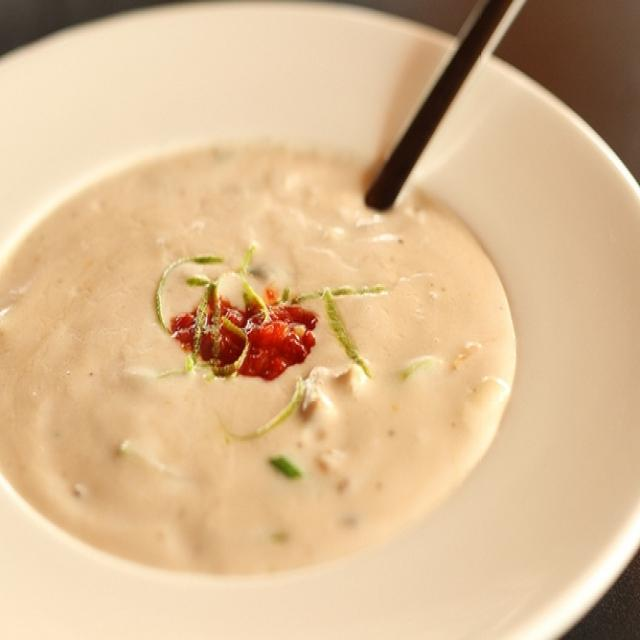汤锅炖物: (8, 53, 558, 596)
